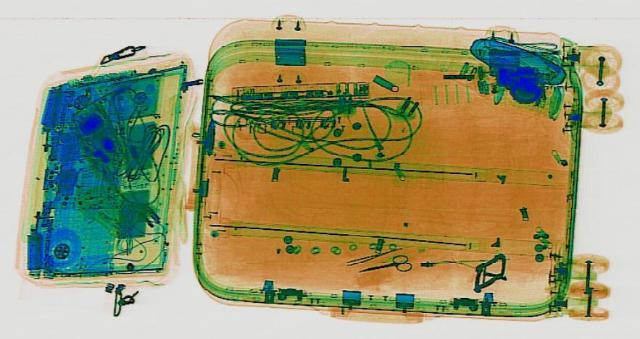Scissors: (349, 252, 416, 277)
